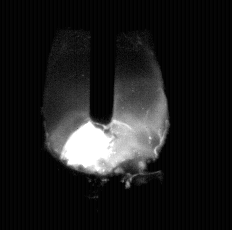arame: (90, 0, 116, 125)
poca: (43, 0, 170, 230)
